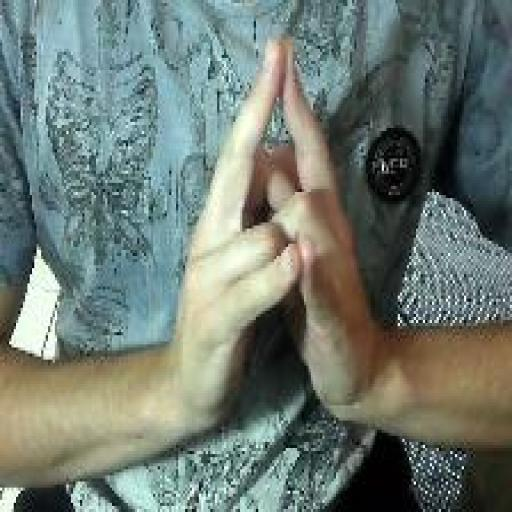Tori -bird-: (166, 30, 380, 433)
